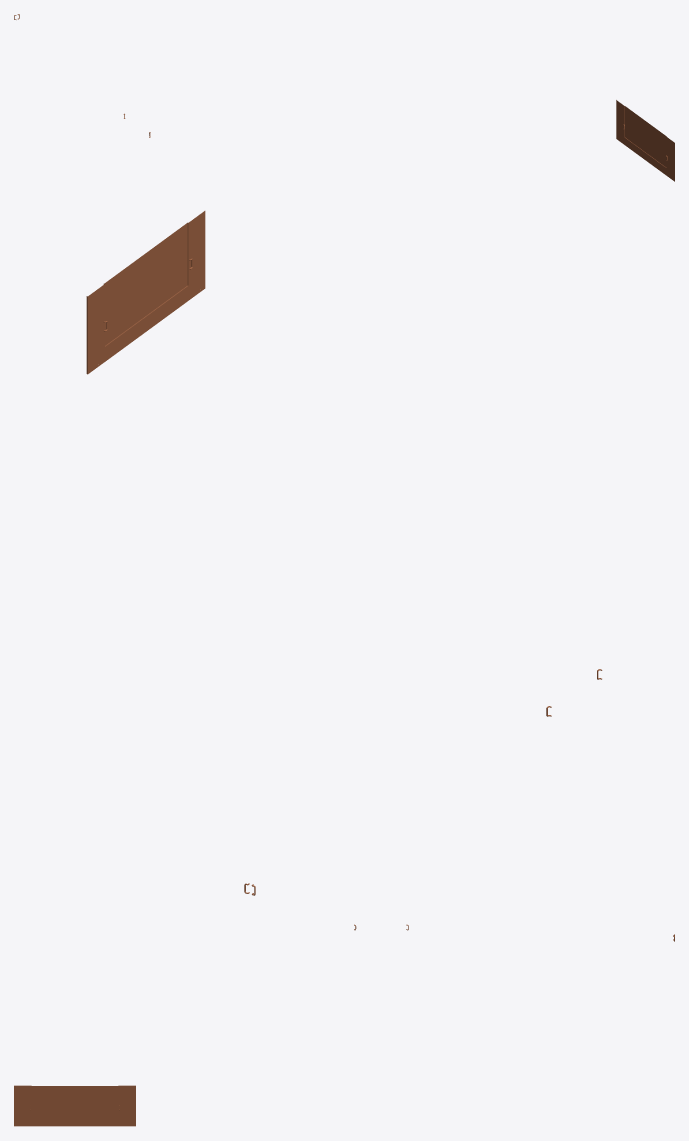
Rendered from Doors_9Floor.fbx.
3 views of the same model, one above another, from view 1: azimuth 30°, elevation 25°; view 2: azimuth 150°, elevation 25°; view 3: azimuth 270°, elevation 25° (orthographic). The views are drawn at different scales.
Visible parts, largest first — view 1: Window_9Floor, Wall_9Floor, Glass_Door1, Glass_Door2; view 2: Window_9Floor, Glass_Door1, Glass_Door2, Wall_9Floor; view 3: Window_9Floor, Wall_9Floor, Glass_Door1, Glass_Door2.
Part boxes in pixels (bbox=[...]): Window_9Floor: bbox=[625, 106, 666, 167]; Wall_9Floor: bbox=[624, 137, 666, 175]; Glass_Door1: bbox=[616, 100, 624, 144]; Glass_Door2: bbox=[666, 137, 674, 181]; Window_9Floor: bbox=[104, 223, 187, 345]; Glass_Door1: bbox=[86, 284, 107, 374]; Glass_Door2: bbox=[187, 211, 205, 300]; Wall_9Floor: bbox=[105, 285, 188, 361]; Window_9Floor: bbox=[31, 1086, 118, 1118]; Wall_9Floor: bbox=[31, 1118, 118, 1126]; Glass_Door1: bbox=[118, 1085, 135, 1126]; Glass_Door2: bbox=[14, 1085, 31, 1126].
Size of the model in its own units: 3009 by 309 by 4570.
